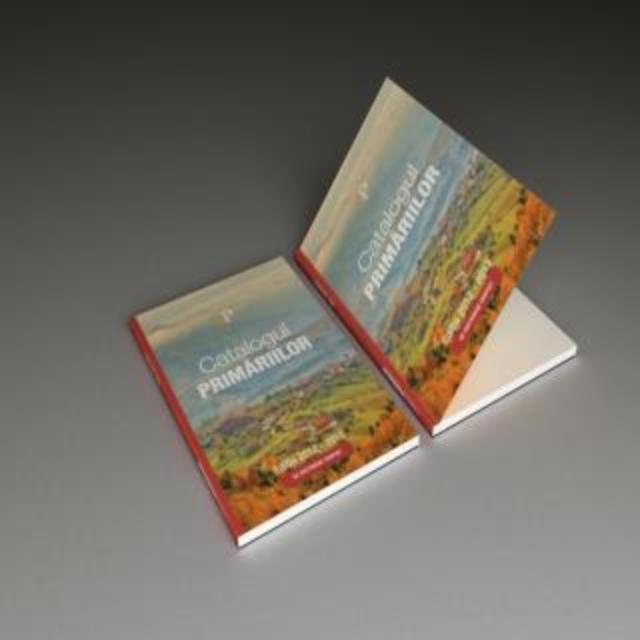book: (294, 74, 578, 436), (128, 254, 418, 548)
